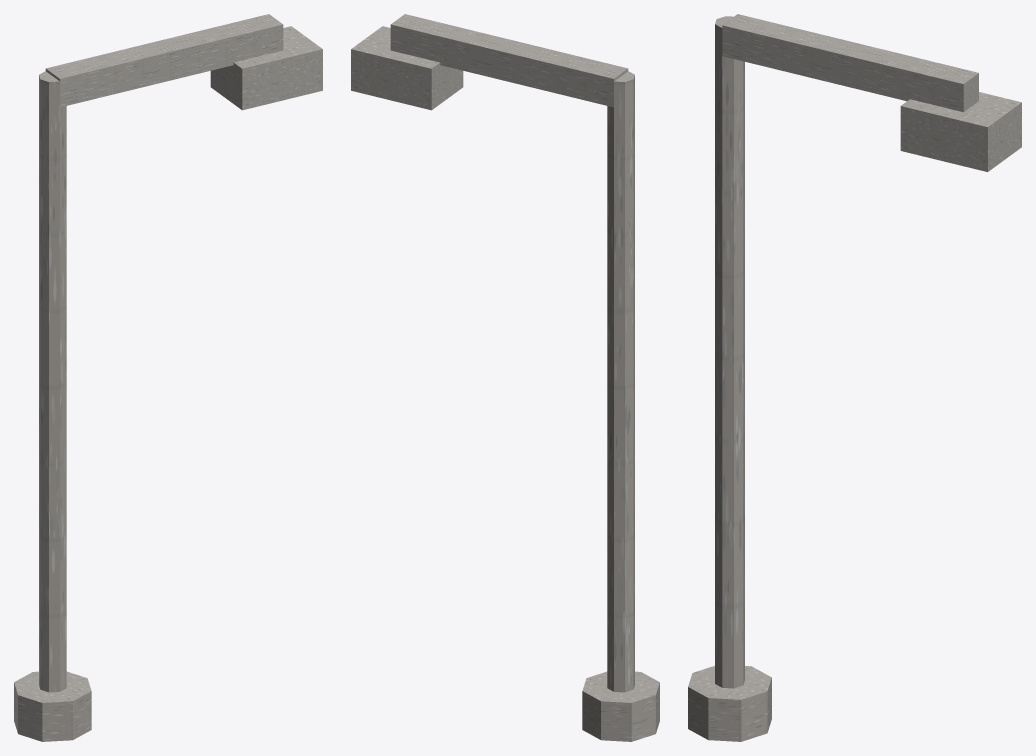
The model's file is streetlight.obj.
3 renders of one model, left to right at view 1: azimuth 30°, elevation 25°; view 2: azimuth 150°, elevation 25°; view 3: azimuth 330°, elevation 25°, orthographic. The views are drawn at different scales.
Bounding box in the file's own units: 2.33 × 5.02 × 0.56.
2 materials, 2 textured.
